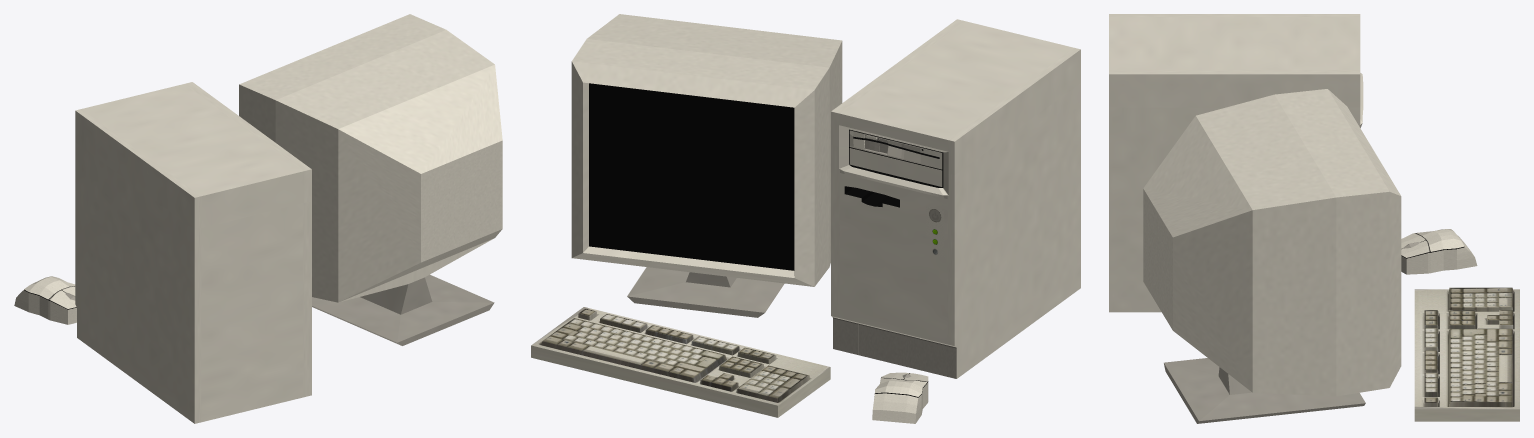
Rendered from PCOutline.fbx.
3 views of the same model, side by side, from view 1: azimuth 30°, elevation 25°; view 2: azimuth 150°, elevation 25°; view 3: azimuth 270°, elevation 25° (orthographic). The views are drawn at different scales.
Visible parts, largest first — view 1: FloppyStoppy; view 2: FloppyStoppy; view 3: FloppyStoppy.
Boxes of the visible parts, x1,y1,x2,y2 form: FloppyStoppy: (14, 14, 502, 423); FloppyStoppy: (531, 14, 1080, 423); FloppyStoppy: (1109, 14, 1519, 423).
Size of the model in its own units: 119 by 68.43 by 105.
